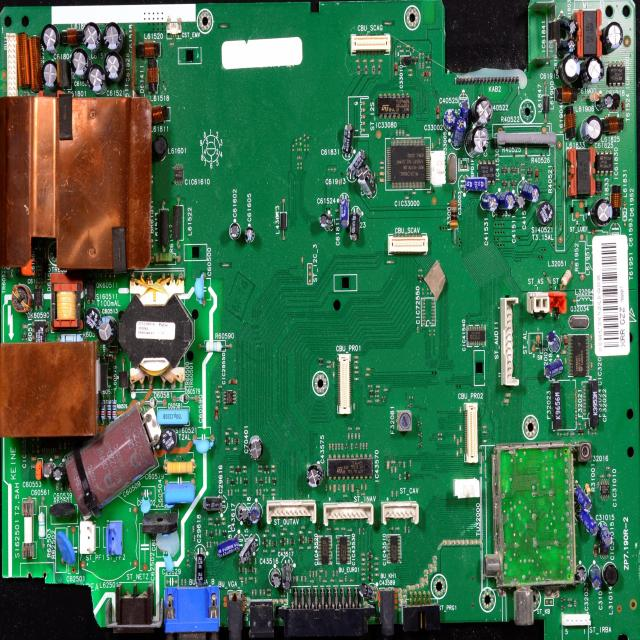Capacitor Jumper: (72, 421, 155, 503), (164, 480, 196, 505), (102, 23, 125, 51), (357, 164, 377, 196), (603, 21, 624, 51), (580, 116, 604, 142), (574, 508, 596, 536), (583, 58, 605, 84), (469, 127, 489, 155), (592, 198, 612, 226), (558, 57, 580, 82), (194, 272, 208, 310), (70, 49, 90, 74), (157, 409, 190, 424), (241, 536, 260, 562), (473, 98, 492, 124), (96, 317, 114, 343), (42, 59, 58, 87), (500, 190, 517, 216), (84, 22, 100, 49), (306, 463, 324, 487), (104, 51, 122, 75), (193, 547, 206, 580), (138, 489, 155, 514), (20, 255, 38, 278), (192, 435, 216, 452), (88, 66, 104, 90), (545, 356, 563, 377), (573, 482, 587, 509), (480, 193, 498, 214), (588, 564, 602, 590), (462, 177, 488, 191), (546, 329, 561, 353), (203, 496, 226, 511), (216, 540, 240, 554), (318, 210, 333, 232), (350, 148, 362, 175), (338, 198, 349, 227), (342, 125, 354, 151), (348, 210, 359, 238), (360, 583, 378, 600), (522, 182, 539, 200), (269, 568, 282, 591), (248, 438, 262, 458), (161, 552, 175, 572), (282, 561, 292, 589), (42, 25, 56, 44), (574, 562, 586, 584), (456, 119, 467, 142), (600, 93, 614, 111), (444, 109, 457, 128), (236, 503, 248, 522), (562, 39, 576, 55), (248, 506, 262, 522), (41, 462, 53, 480), (514, 194, 526, 212), (460, 99, 471, 118), (400, 52, 413, 68), (53, 465, 64, 483), (229, 222, 241, 238), (568, 18, 578, 36), (32, 236, 42, 252), (244, 226, 253, 242), (36, 458, 42, 481)
Connector: (501, 296, 521, 388), (323, 502, 374, 527), (266, 500, 316, 524), (336, 350, 354, 413), (462, 402, 479, 464), (386, 232, 431, 255), (348, 34, 393, 56), (380, 502, 420, 524)
IC: (384, 138, 430, 190), (328, 455, 374, 481), (566, 332, 591, 376), (376, 92, 409, 118), (465, 322, 488, 349), (384, 533, 403, 564), (420, 295, 436, 328), (606, 62, 626, 88), (317, 534, 333, 566), (336, 534, 352, 566), (596, 518, 613, 548), (30, 319, 49, 343), (172, 162, 186, 185), (222, 388, 238, 406), (598, 479, 611, 499), (598, 546, 612, 562)
Resistor Jumper: (56, 527, 74, 571), (163, 460, 198, 476), (50, 503, 78, 522), (36, 500, 48, 542), (152, 250, 182, 263), (202, 341, 225, 354), (561, 268, 575, 286), (100, 395, 107, 419), (584, 481, 594, 497), (106, 396, 112, 422), (112, 396, 118, 422), (586, 92, 600, 102), (535, 166, 541, 186)
